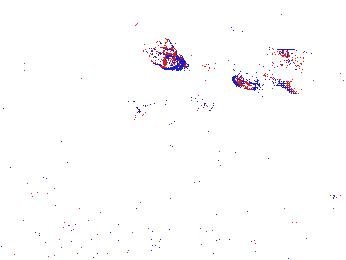X-ray fish: (136, 35, 191, 76)
red belly glassfish: (215, 147, 279, 172)
redtail glassfish: (198, 52, 290, 86), (123, 95, 215, 124), (274, 46, 346, 82), (227, 21, 282, 56), (231, 72, 300, 98)
